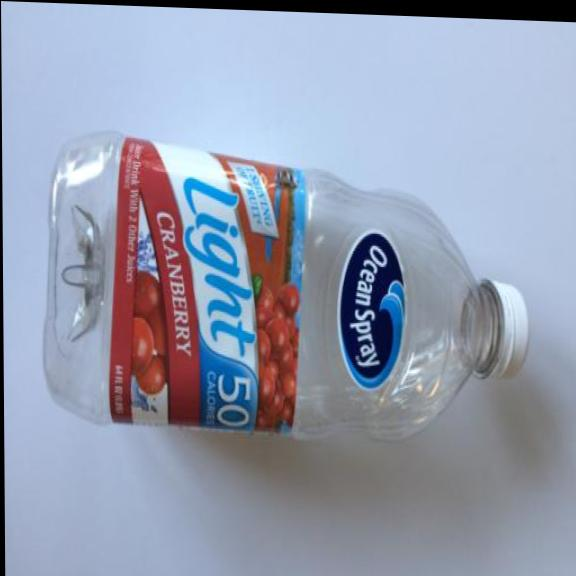Plastik: (34, 122, 538, 458)
